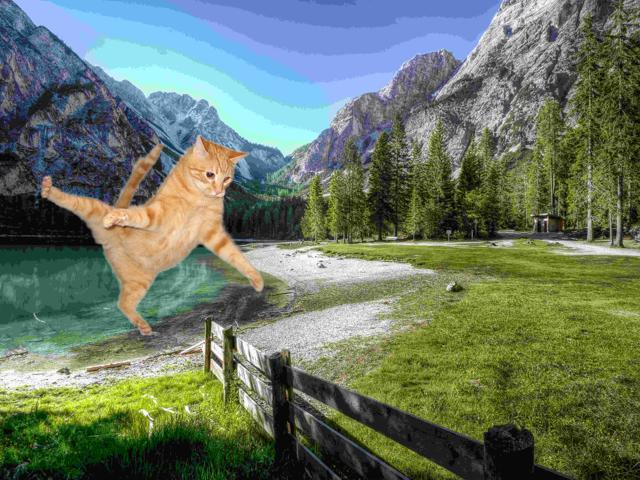cat: (42, 137, 264, 335)
